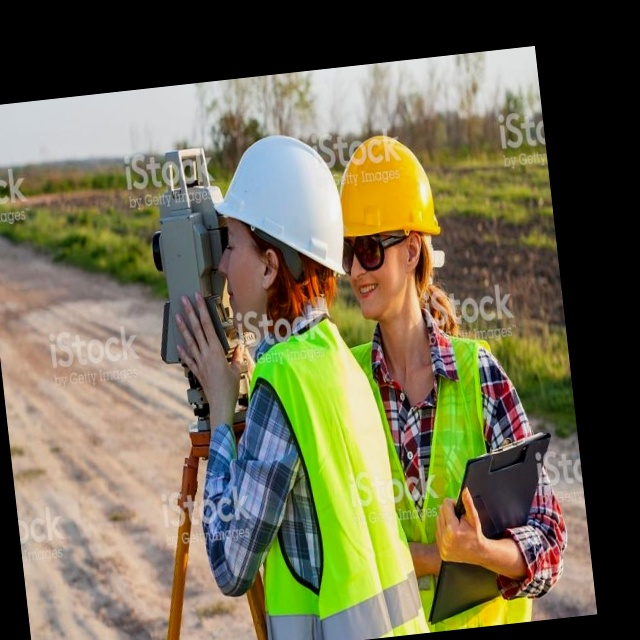Con_Chaleco: (232, 332, 429, 640)
